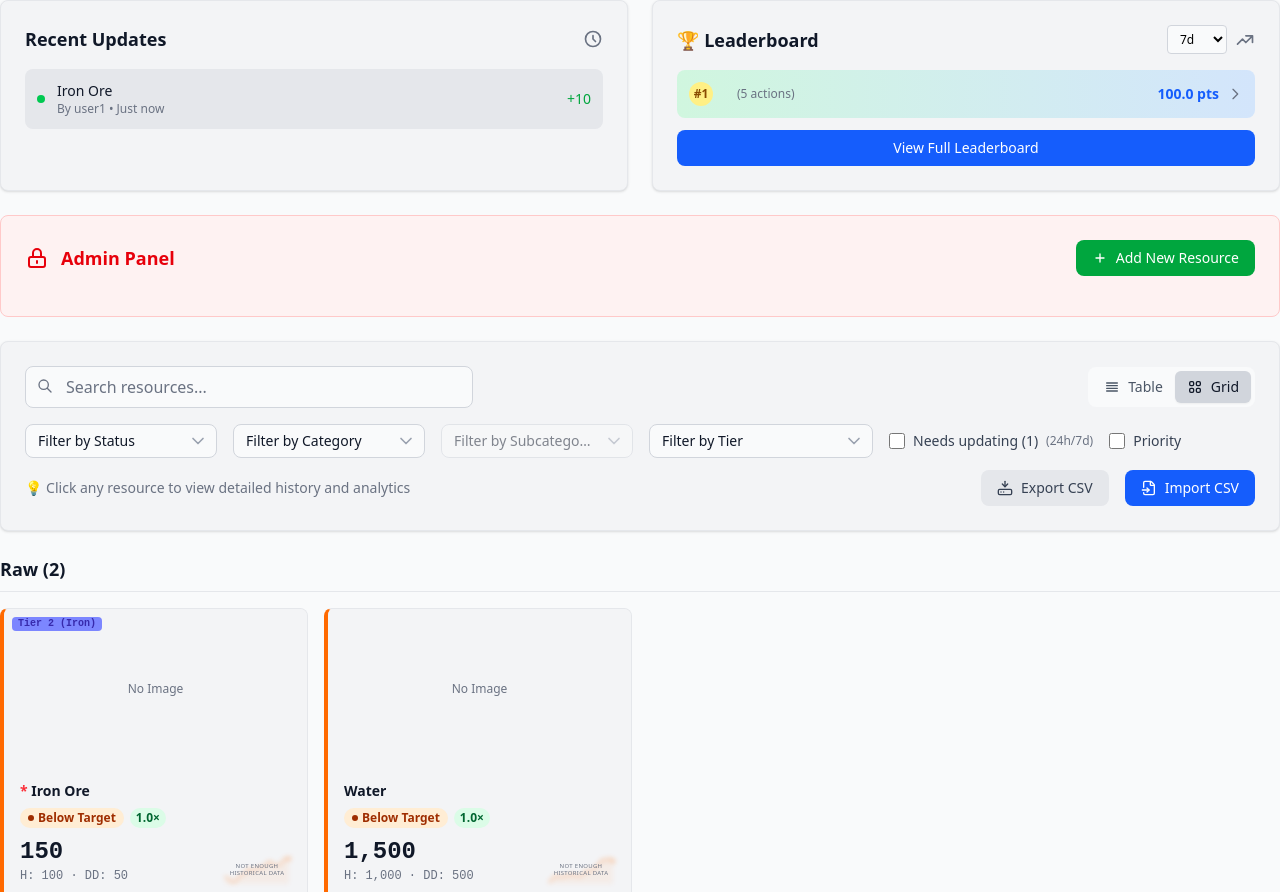
ResourceTable › filters resources by category
The image size is (1280, 892).
Expected: the heading "Recent Updates" is shown, [25,25,166,53]
Click the button "Table".
click(1134, 387)  # box [1092,371,1175,403]
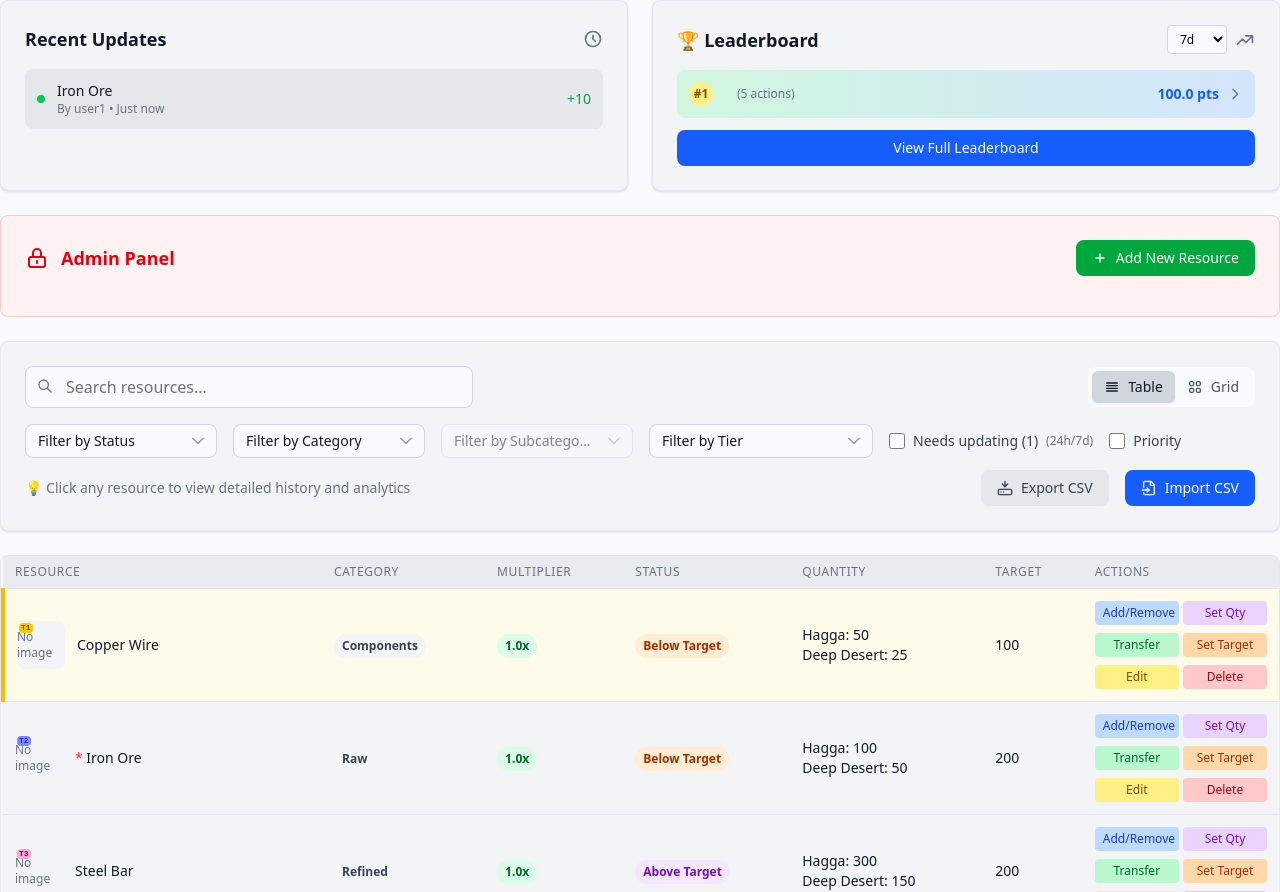
Click the button with test id "category-filter".
click(329, 441)  # box [233,424,425,458]
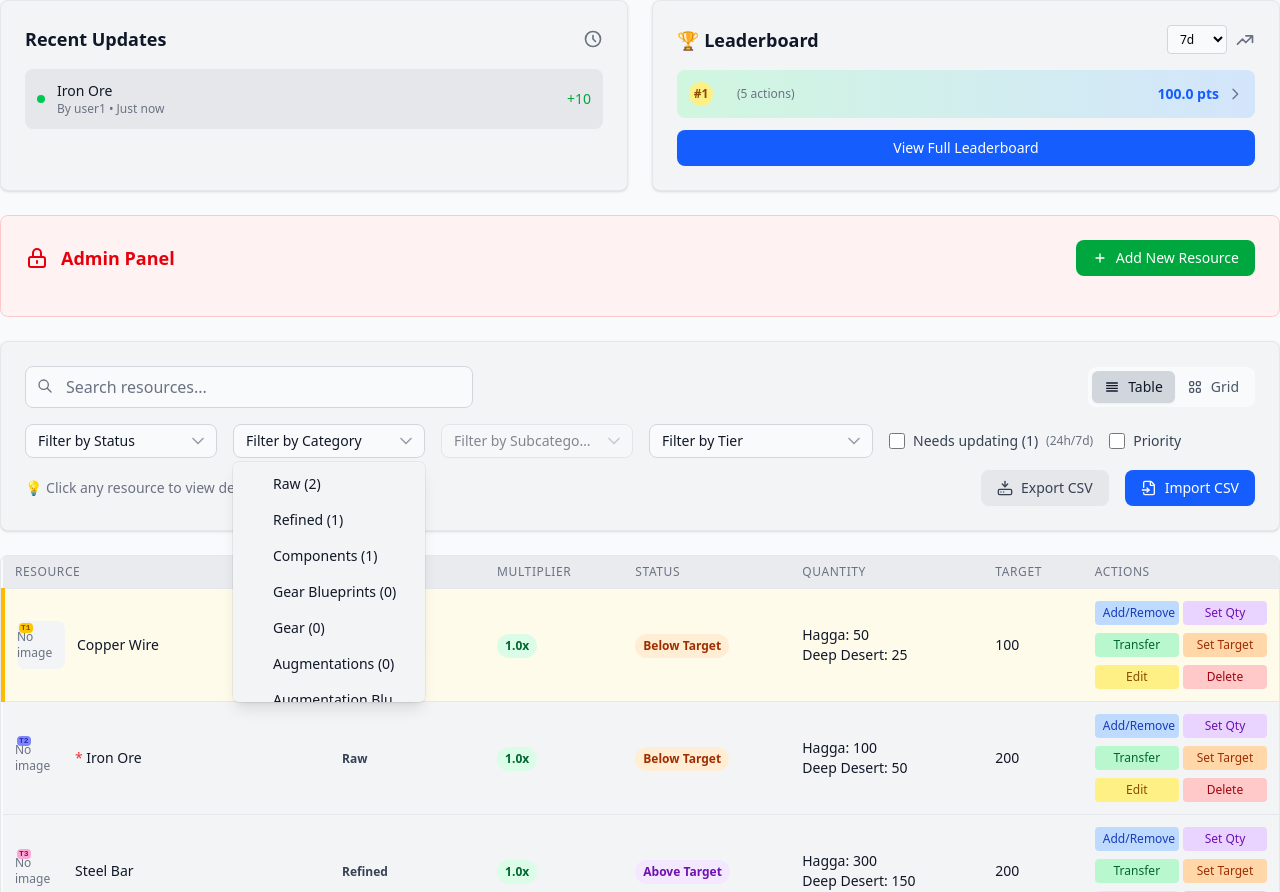
Click the option "Raw (2)".
click(297, 484)  # box [273,474,321,493]
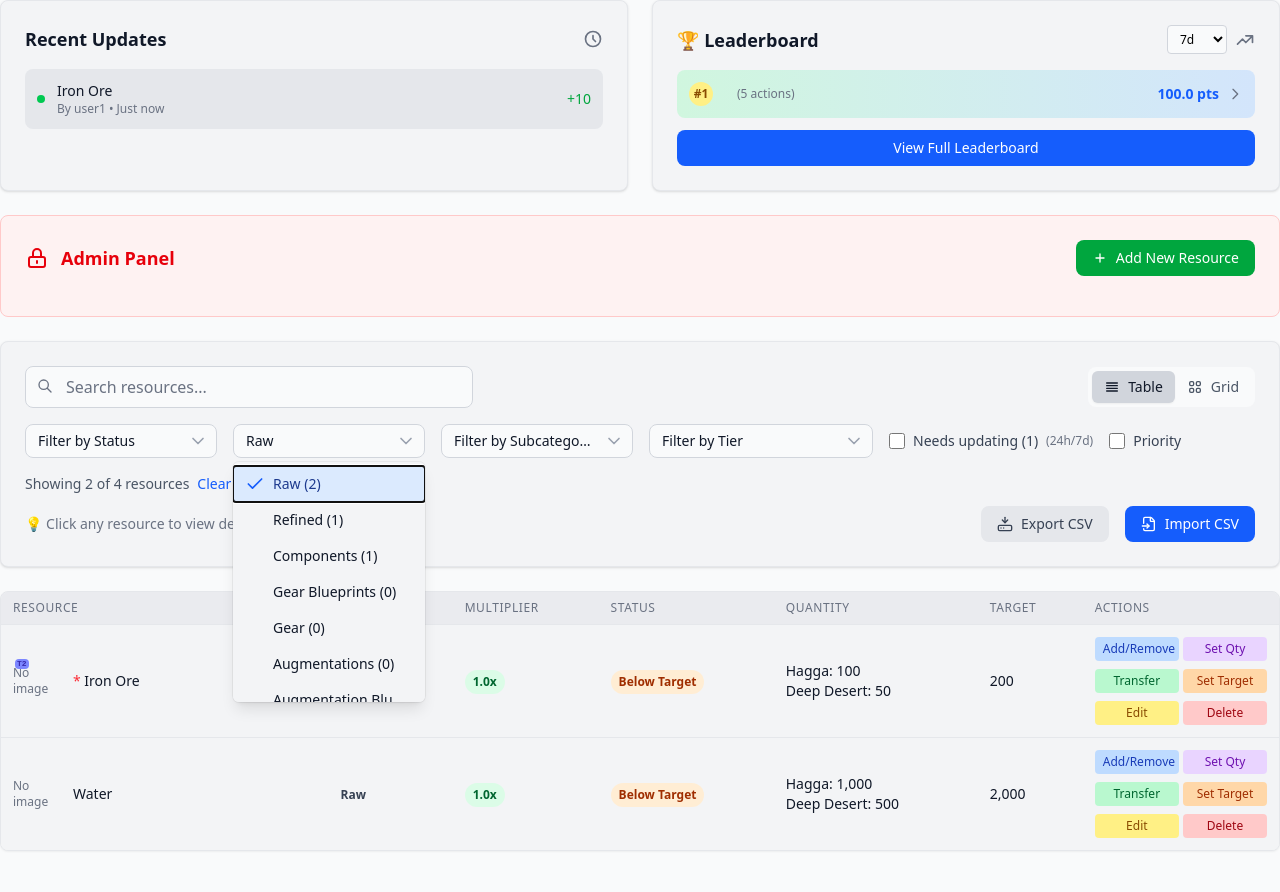
Expected: the text "Iron Ore" is shown, [84,671,140,690]
Expected: the text "Copper Wire" is gone
Expected: the text "Steel Bar" is gone
